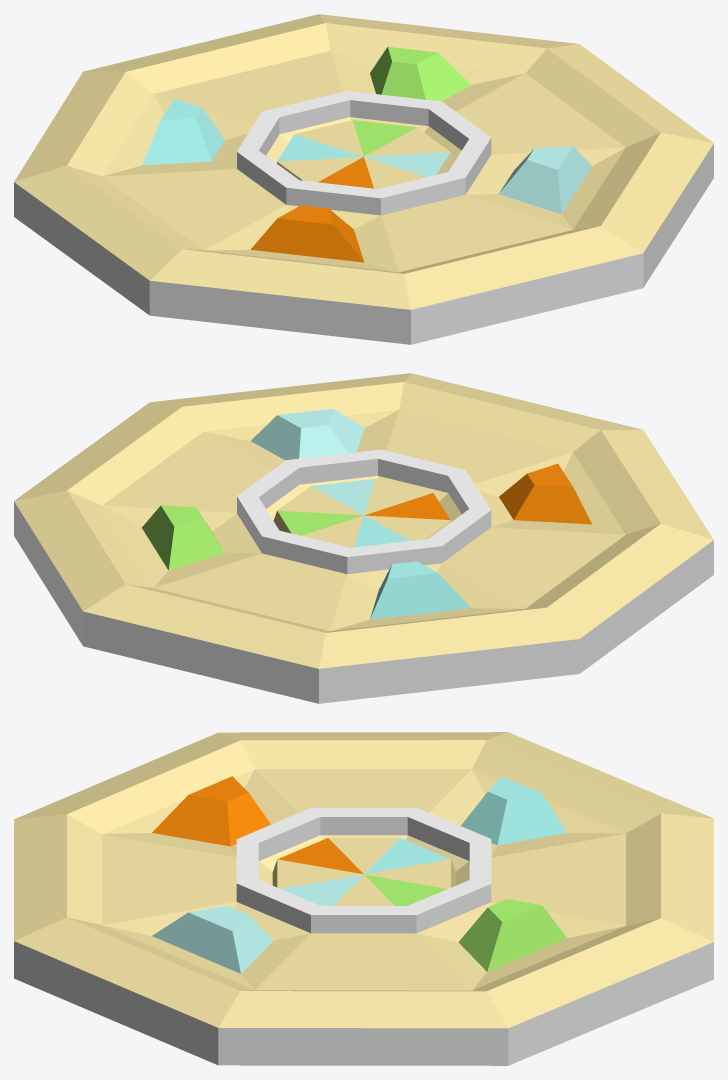
Rendered from MasterMedallion.fbx.
The picture shows the model from 3 angles, top to bottom: view 1: azimuth 30°, elevation 25°; view 2: azimuth 150°, elevation 25°; view 3: azimuth 270°, elevation 25°; orthographic projection. The views are drawn at different scales.
Parts seen in each view (by area): view 1: pCylinder1; view 2: pCylinder1; view 3: pCylinder1.
Boxes of the visible parts, x1=… form: pCylinder1: x1=14, y1=14, x2=713, y2=344; pCylinder1: x1=14, y1=373, x2=713, y2=703; pCylinder1: x1=14, y1=732, x2=713, y2=1065.
Size of the model in its own units: 4.15 by 0.6484 by 4.15.
